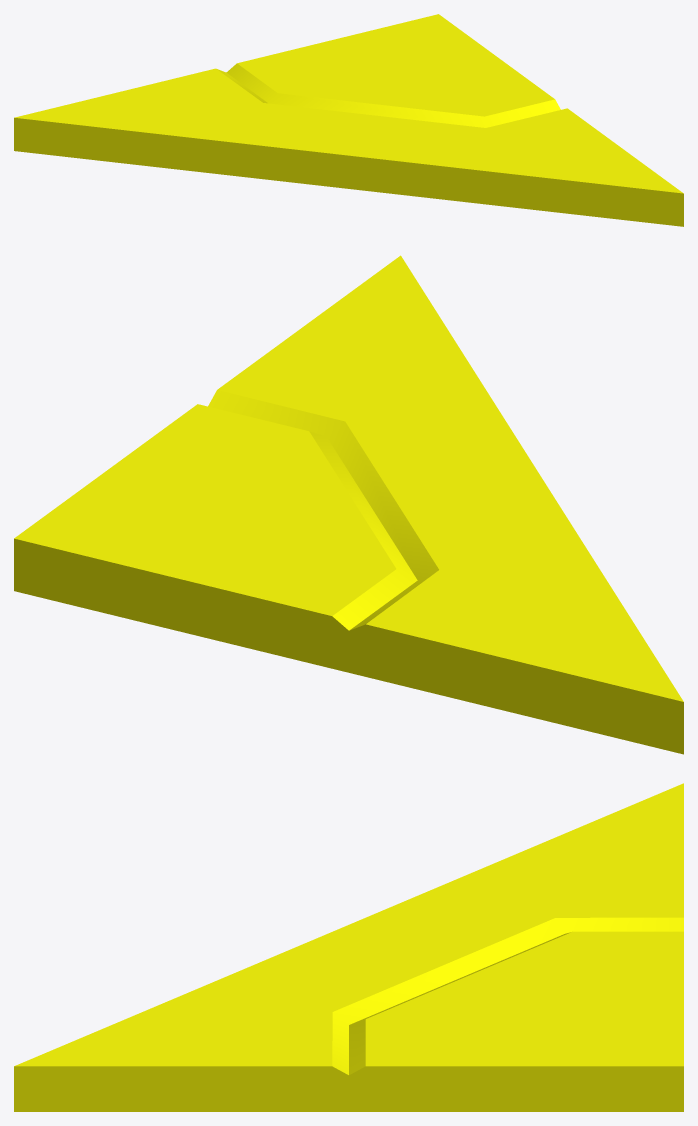
File: kaykit-floor-tile-small-corner.glb
3 views of the same model, one above another, from view 1: azimuth 30°, elevation 25°; view 2: azimuth 150°, elevation 25°; view 3: azimuth 270°, elevation 25° (orthographic). The views are drawn at different scales.
Visible parts, largest first — view 1: floor_tile_small_corner; view 2: floor_tile_small_corner; view 3: floor_tile_small_corner.
Part boxes in pixels (bbox=[...]): floor_tile_small_corner: bbox=[14, 14, 683, 226]; floor_tile_small_corner: bbox=[14, 255, 683, 754]; floor_tile_small_corner: bbox=[14, 783, 683, 1111].
Bounding box in the file's own units: 2 × 0.1499 × 2.
